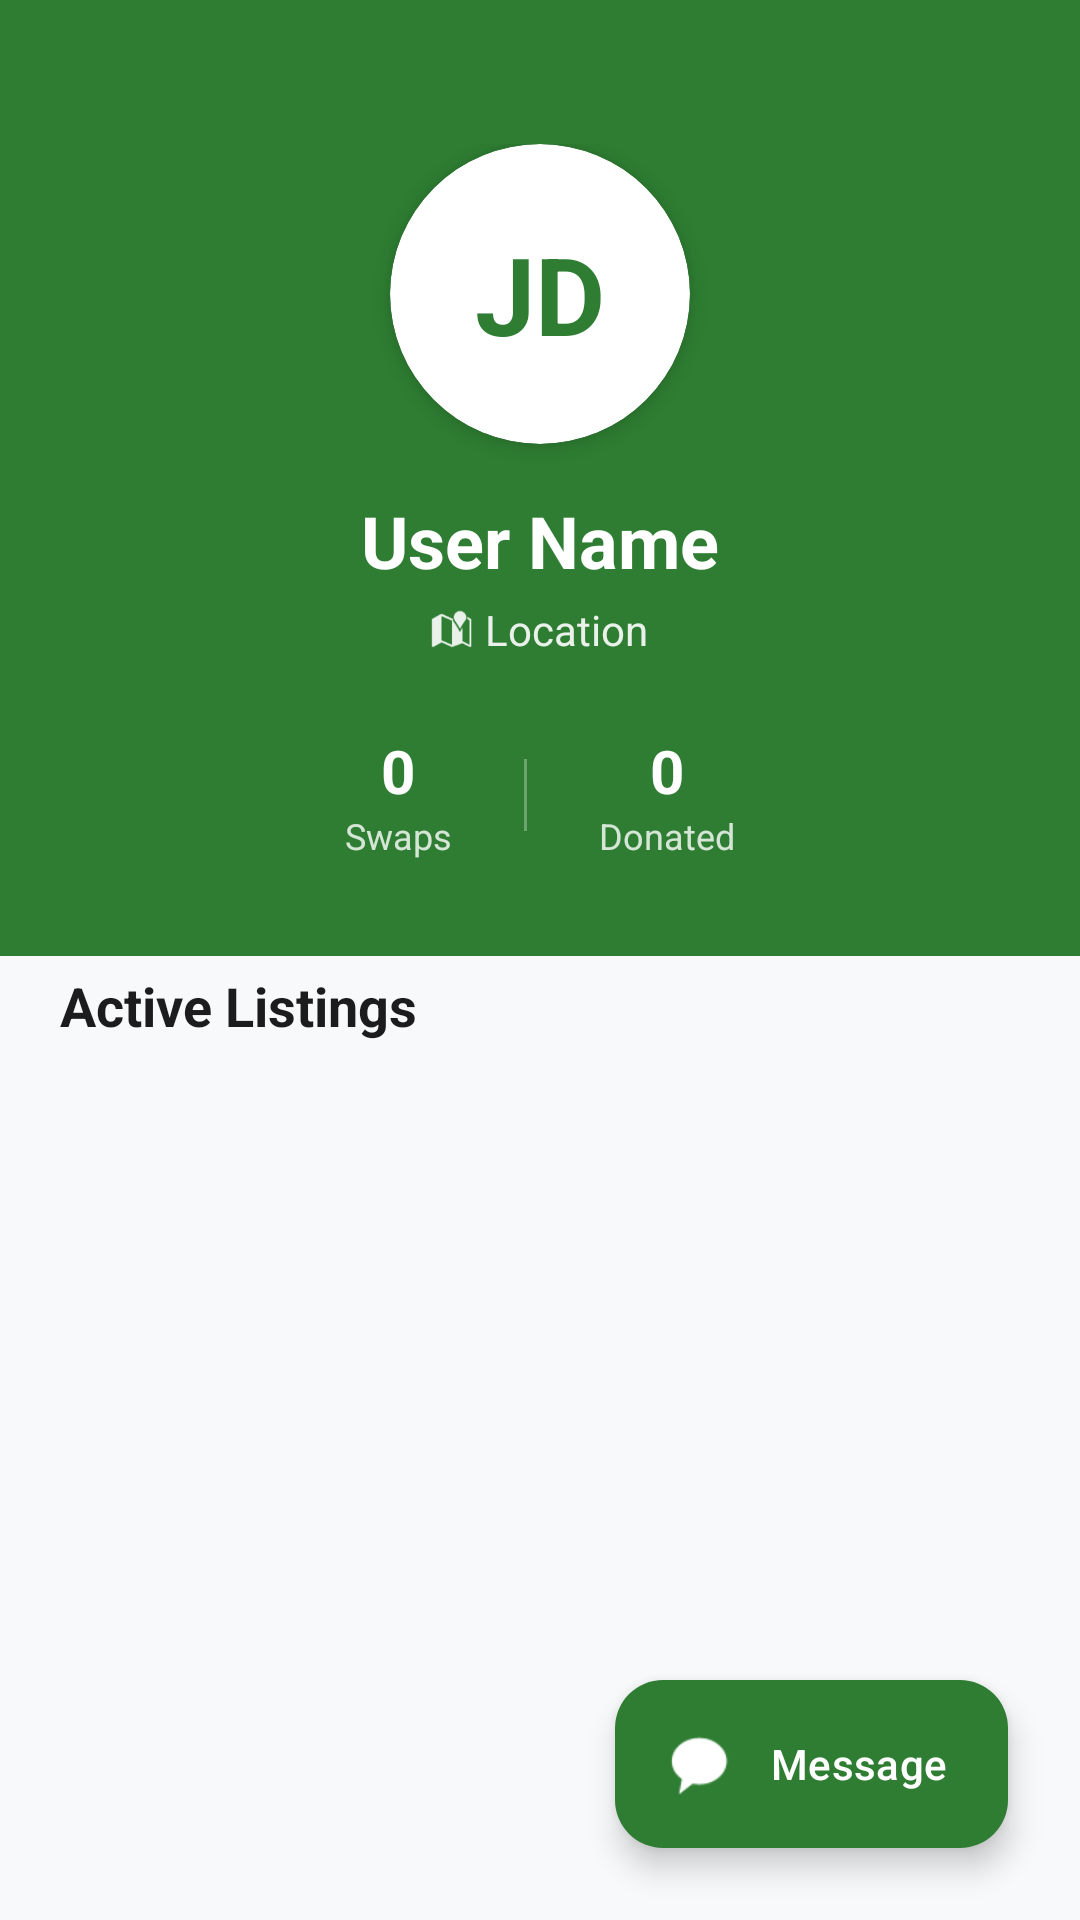

Icons on this 1080 × 1920 Android screen, each with its box as (x1, y1, x2, y2):
map: (431, 610, 472, 647)
